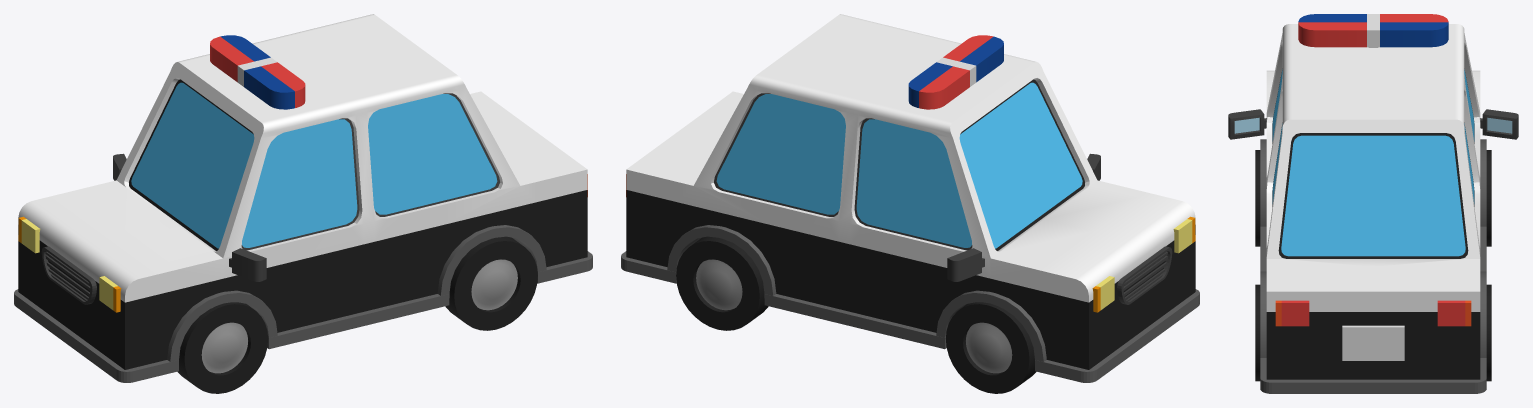
Rendered from police_car.gltf.
3 views of the same model, side by side, from view 1: azimuth 30°, elevation 25°; view 2: azimuth 150°, elevation 25°; view 3: azimuth 270°, elevation 25° (orthographic).
Parts seen in each view (by area): view 1: Cube.657, Circle.2384, Cube.661, Cube.658, Cube.659, Cube.663, Cube.660, Cube.662; view 2: Cube.657, Circle.2384, Cube.661, Cube.658, Cube.659, Cube.663, Cube.660, Cube.662; view 3: Cube.657, Cube.661, Cube.658, Cube.659, Circle.2384, Cube.662, Cube.660.
Part boxes in pixels (x1=…): Cube.657: x1=18, y1=14, x2=587, y2=369; Circle.2384: x1=177, y1=236, x2=537, y2=393; Cube.661: x1=14, y1=251, x2=592, y2=382; Cube.658: x1=210, y1=35, x2=305, y2=109; Cube.659: x1=167, y1=225, x2=546, y2=361; Cube.663: x1=41, y1=246, x2=96, y2=304; Cube.660: x1=18, y1=174, x2=587, y2=312; Cube.662: x1=113, y1=153, x2=266, y2=281; Cube.657: x1=626, y1=14, x2=1195, y2=369; Circle.2384: x1=676, y1=236, x2=1036, y2=393; Cube.661: x1=621, y1=251, x2=1199, y2=382; Cube.658: x1=908, y1=35, x2=1003, y2=109; Cube.659: x1=667, y1=225, x2=1046, y2=361; Cube.663: x1=1117, y1=246, x2=1172, y2=304; Cube.660: x1=626, y1=174, x2=1195, y2=312; Cube.662: x1=947, y1=153, x2=1100, y2=281; Cube.657: x1=1266, y1=24, x2=1480, y2=379; Cube.661: x1=1260, y1=226, x2=1486, y2=393; Cube.658: x1=1298, y1=14, x2=1448, y2=47; Cube.659: x1=1260, y1=139, x2=1486, y2=357; Circle.2384: x1=1255, y1=150, x2=1491, y2=381; Cube.662: x1=1228, y1=109, x2=1518, y2=139; Cube.660: x1=1275, y1=300, x2=1471, y2=326.
Bounding box in the file's own units: 2.17 × 1.17 × 1.15.
1 material, 1 textured.
